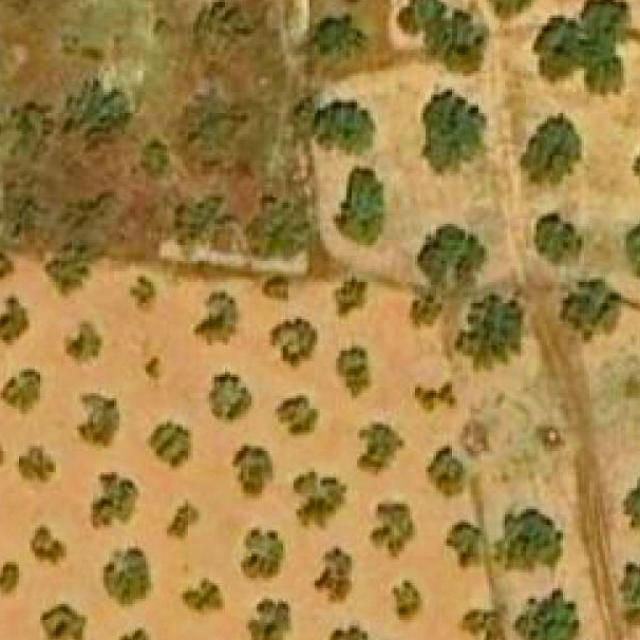Tree: (534, 0, 632, 97), (398, 0, 486, 76), (243, 195, 327, 272), (422, 84, 484, 174), (454, 296, 526, 370), (61, 76, 127, 148), (521, 116, 582, 185), (417, 224, 486, 285), (494, 509, 563, 570), (331, 169, 384, 246), (304, 15, 368, 76), (560, 280, 621, 343), (169, 196, 241, 248), (515, 588, 579, 640), (104, 546, 154, 609), (315, 100, 373, 153), (357, 416, 404, 477), (90, 472, 137, 530), (533, 211, 584, 264), (308, 546, 354, 604), (370, 504, 417, 560), (296, 478, 346, 530), (269, 316, 317, 369), (240, 525, 285, 581), (192, 292, 238, 346), (206, 372, 251, 422), (336, 346, 373, 404), (148, 421, 190, 472), (80, 393, 120, 446), (232, 444, 272, 496), (428, 446, 468, 496), (64, 316, 104, 366), (0, 370, 42, 417), (380, 578, 422, 625), (179, 576, 225, 618), (46, 245, 88, 290), (446, 523, 484, 570), (274, 396, 316, 438), (19, 444, 56, 491), (40, 604, 88, 640), (245, 602, 290, 640), (0, 293, 30, 343), (619, 557, 640, 625), (32, 523, 66, 565), (166, 498, 200, 538), (415, 380, 457, 412), (462, 609, 504, 640), (141, 138, 172, 180), (459, 422, 491, 460), (623, 475, 640, 544), (130, 274, 156, 314), (626, 220, 640, 292), (328, 620, 370, 640), (0, 560, 19, 596), (488, 0, 533, 13), (634, 129, 640, 201), (120, 630, 156, 640), (0, 253, 14, 278), (0, 437, 6, 466)
